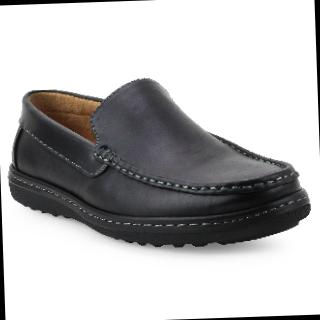loafers: (0, 70, 316, 257)
